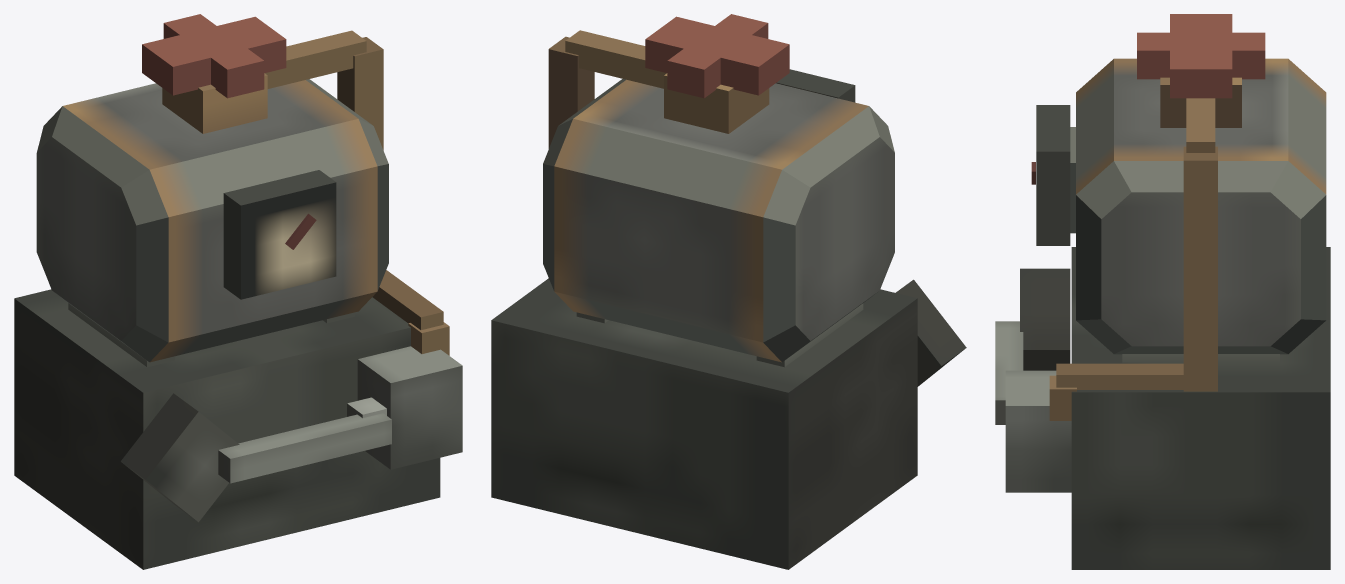
Rendered from steam.obj.
The picture shows the model from 3 angles, left to right: view 1: azimuth 30°, elevation 25°; view 2: azimuth 150°, elevation 25°; view 3: azimuth 270°, elevation 25°; orthographic projection.
Visible parts, largest first — view 1: element_13, element_12, element_16, element_17, element_20, element_21, element_15, element_14, element_19, element_18, element_33, element_56 (+4 smaller); view 2: element_12, element_13, element_15, element_14, element_19, element_18, element_20, element_34, element_16, element_33, element_53; view 3: element_13, element_12, element_18, element_17, element_15, element_20, element_16, element_56, element_14, element_21, element_19, element_34 (+4 smaller).
Part boxes in pixels (x1,y1,x2,y2): element_13: (36,79,388,362); element_12: (14,289,440,569); element_16: (223,170,336,299); element_17: (357,346,462,469); element_20: (121,393,239,522); element_21: (218,413,391,483); element_15: (142,16,286,95); element_14: (162,73,267,133); element_19: (265,30,366,88); element_18: (337,37,383,150); element_33: (211,48,264,98); element_56: (372,270,443,329); element_12: (491,278,917,569); element_13: (543,79,894,362); element_15: (645,16,789,95); element_14: (664,73,769,133); element_19: (565,30,666,88); element_18: (548,36,594,279); element_20: (895,279,966,386); element_34: (667,49,720,98); element_16: (776,69,855,102); element_33: (715,14,768,38); element_53: (756,303,863,367); element_13: (1076,58,1326,354); element_12: (1071,247,1330,569); element_18: (1183,146,1217,391); element_17: (1005,370,1071,492); element_15: (1170,14,1232,98); element_20: (1020,268,1070,370); element_16: (1036,105,1070,245); element_56: (1056,363,1183,389); element_14: (1160,77,1241,127); element_21: (995,321,1023,424); element_19: (1186,98,1215,152); element_34: (1232,32,1265,79).
Size of the model in its own units: 0.3586 by 0.4788 by 0.3238.
